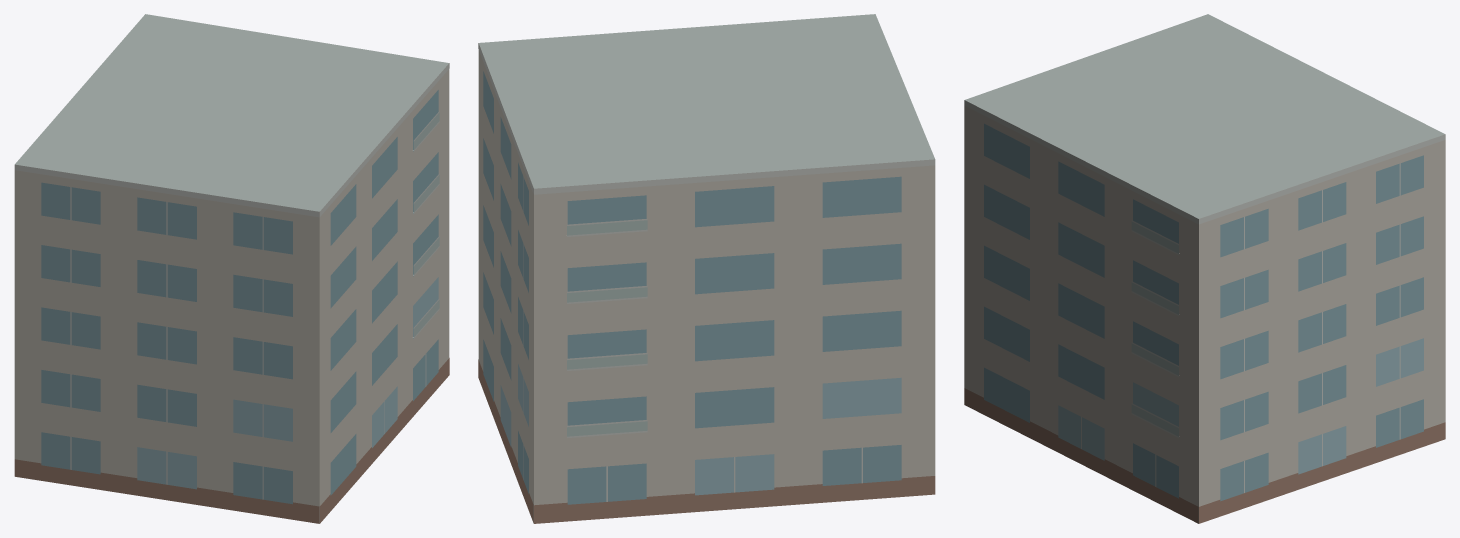
The model's file is survey-upis-32833260.glb.
3 views of the same model, side by side, from view 1: azimuth 30°, elevation 25°; view 2: azimuth 150°, elevation 25°; view 3: azimuth 270°, elevation 25° (orthographic). The views are drawn at different scales.
Parts seen in each view (by area): view 1: survey-upis-32833260.tmp; view 2: survey-upis-32833260.tmp; view 3: survey-upis-32833260.tmp.
Part boxes in pixels (box(x1,y1,x2,y2)): survey-upis-32833260.tmp: box(14, 14, 449, 523); survey-upis-32833260.tmp: box(478, 14, 935, 523); survey-upis-32833260.tmp: box(964, 14, 1445, 523).
Size of the model in its own units: 19.55 by 13.55 by 19.39.
